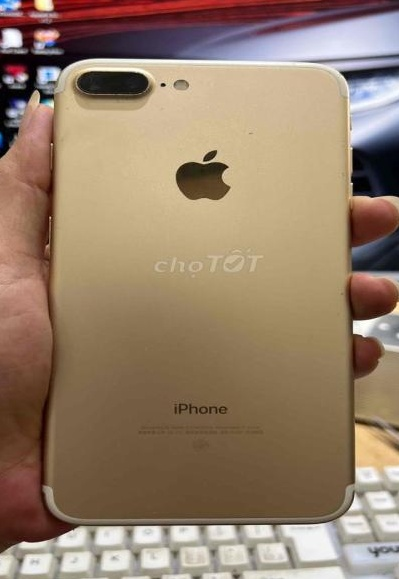scratch: (62, 83, 149, 114), (335, 130, 354, 195), (229, 120, 267, 141), (329, 287, 354, 307)
